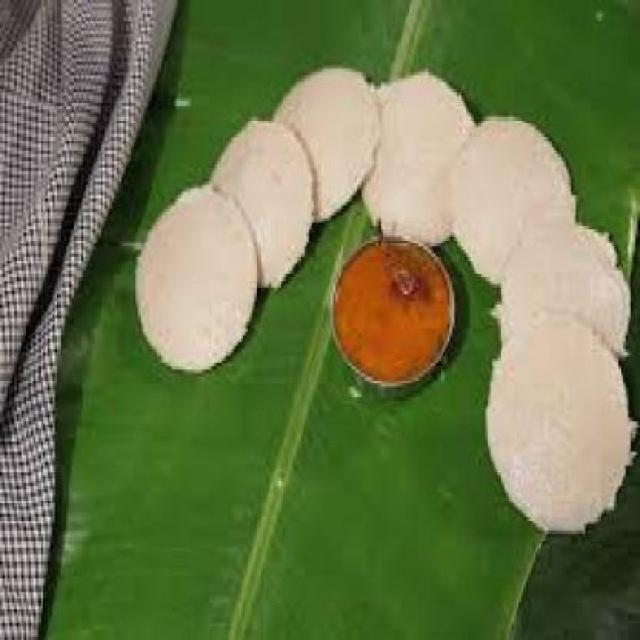idli: (486, 314, 629, 532), (137, 188, 257, 370), (448, 117, 575, 285), (362, 74, 476, 246), (496, 226, 630, 363), (211, 120, 314, 289), (275, 71, 380, 220)
